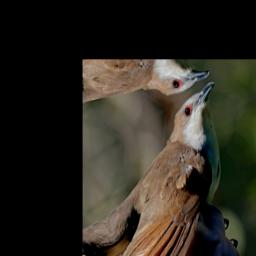Cuckoo: (84, 80, 256, 256)
